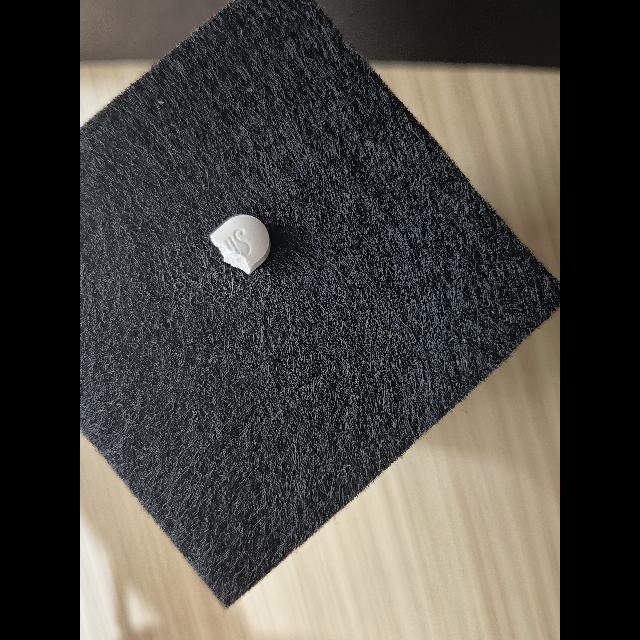Chipped Pill: (210, 215, 271, 275)
